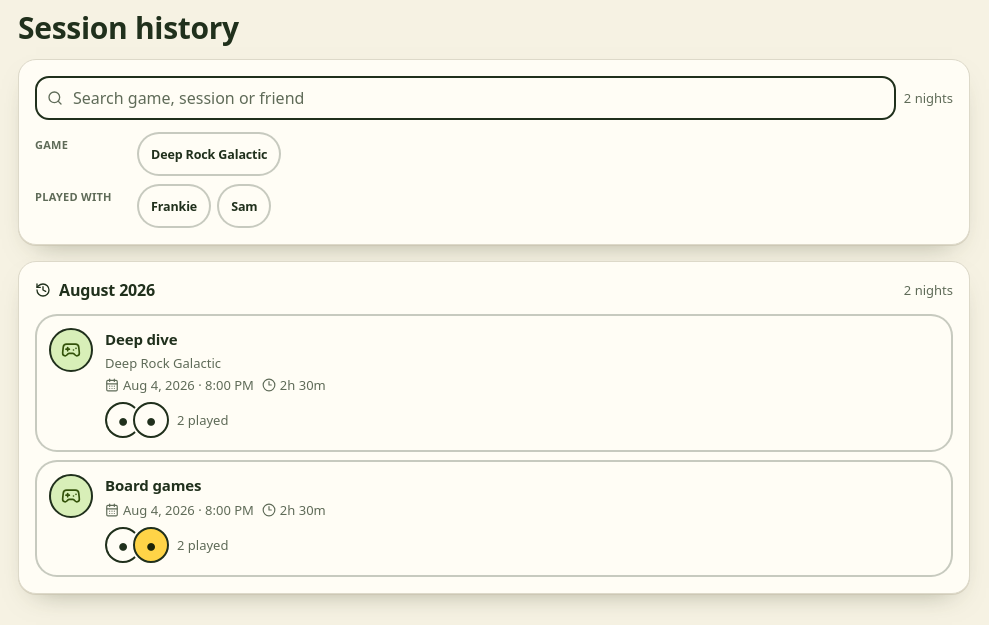
Test case: SessionHistoryView › narrows loaded entries by search text_D223
Check: the heading "Deep dive" is shown, box [105, 329, 177, 349]
Type "sam" into the search field named "Search past sessions" at [465, 98], box [35, 76, 896, 120]
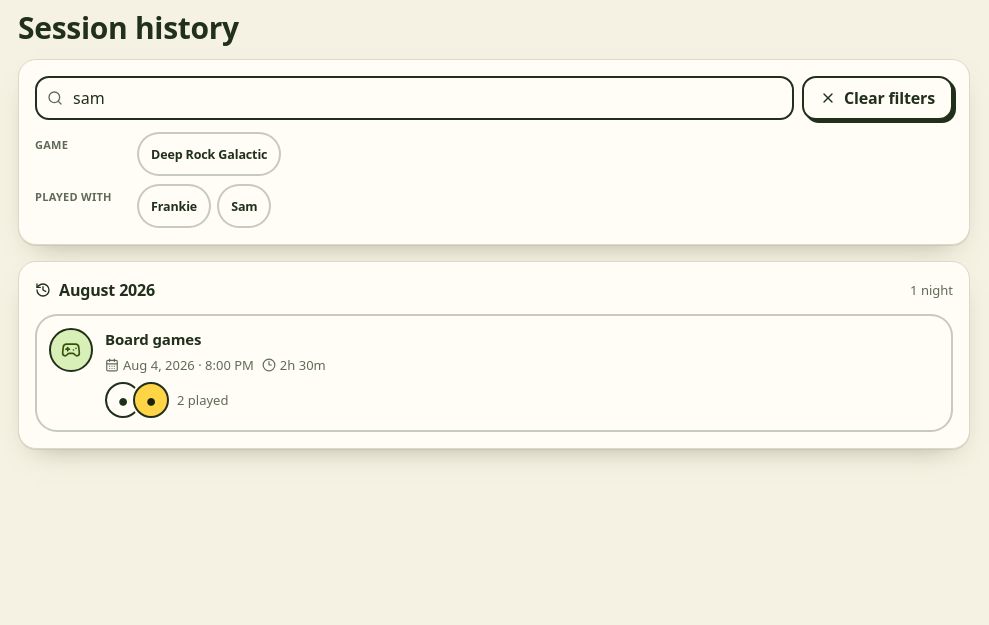
Check: the heading "Board games" is shown, box [105, 329, 201, 349]
Check: the link "Deep dive" is gone
